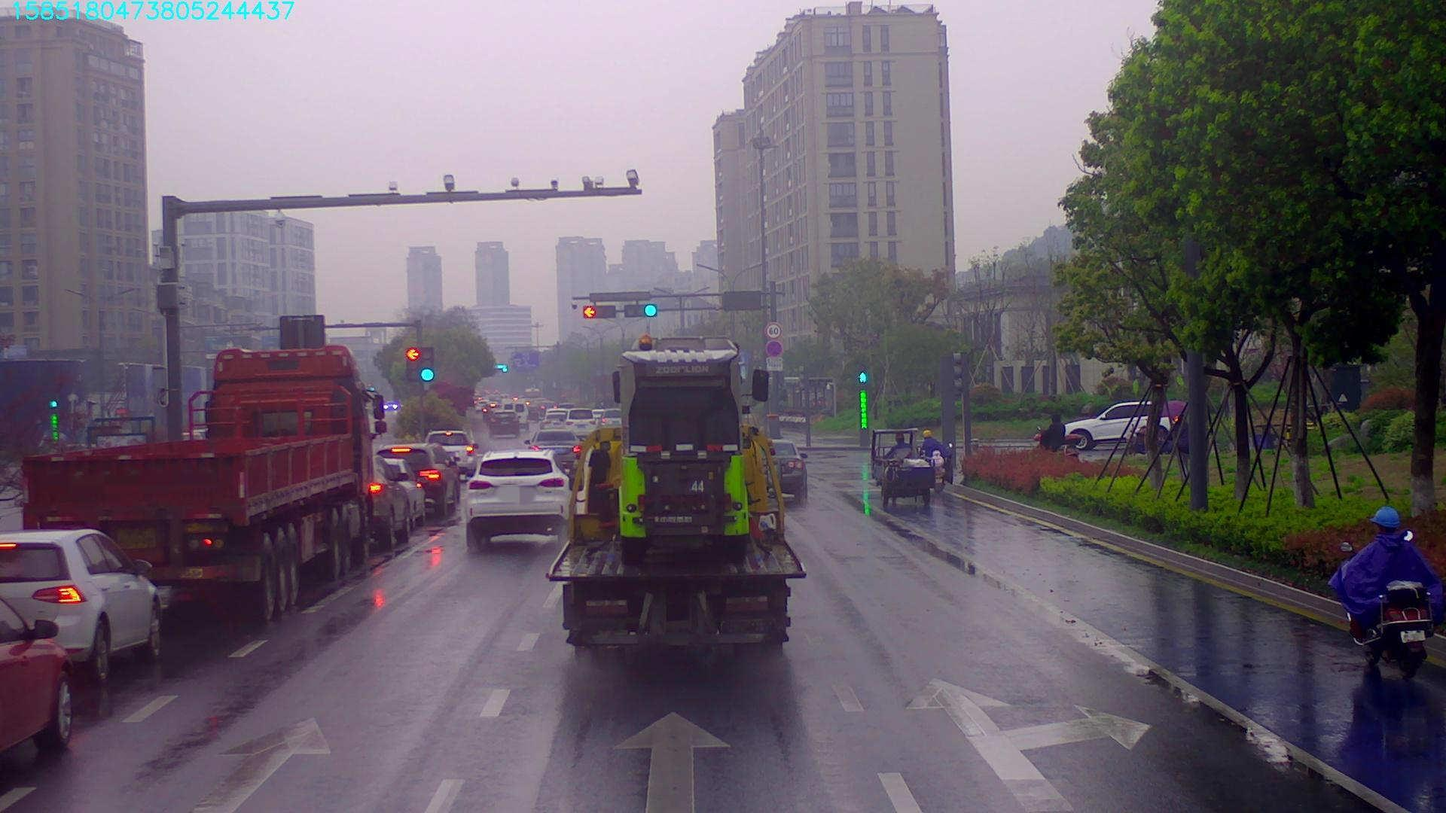green: (624, 302, 662, 319)
red: (578, 303, 618, 317)
